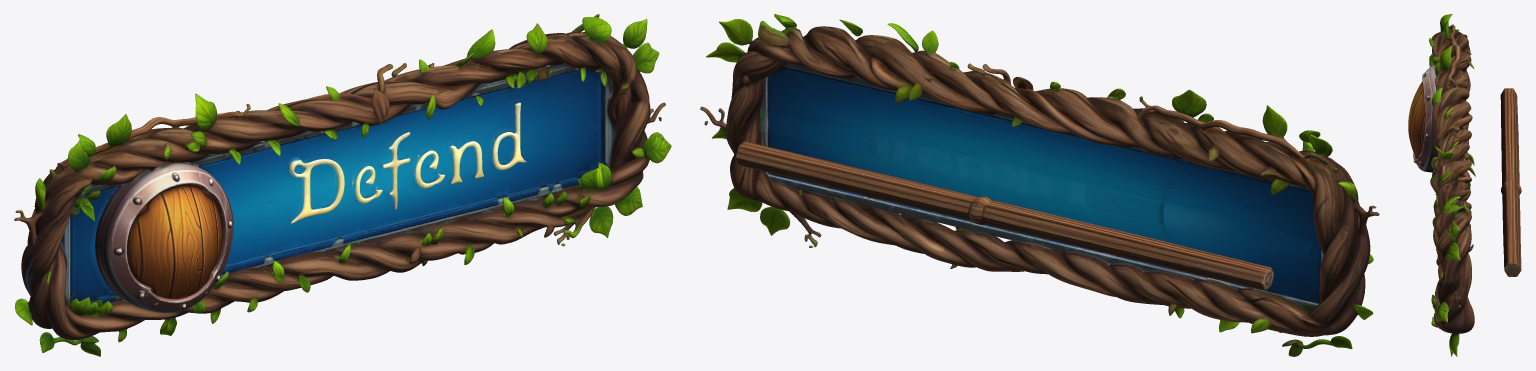
The model's file is defend-hd.glb.
The picture shows the model from 3 angles, left to right: view 1: azimuth 30°, elevation 25°; view 2: azimuth 150°, elevation 25°; view 3: azimuth 270°, elevation 25°; orthographic projection. The views are drawn at different scales.
Bounding box in the file's own units: 1.89 × 0.6722 × 0.4045.
1 material, 1 textured.
